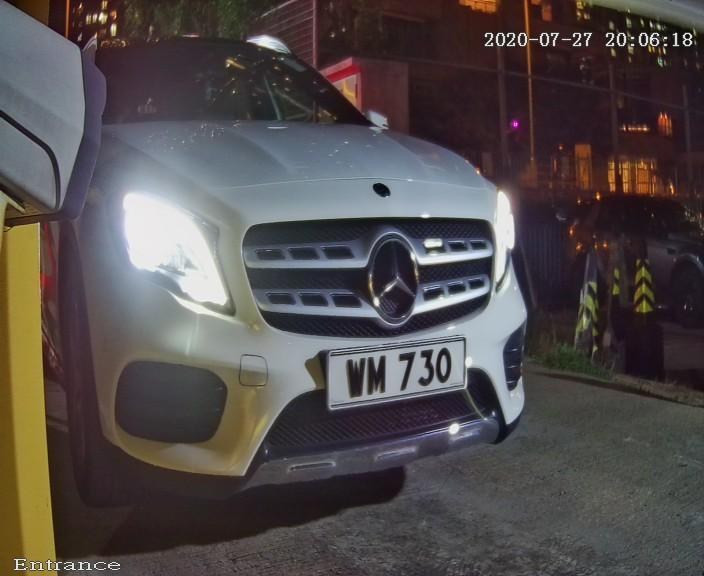privatecar: (38, 24, 547, 515)
